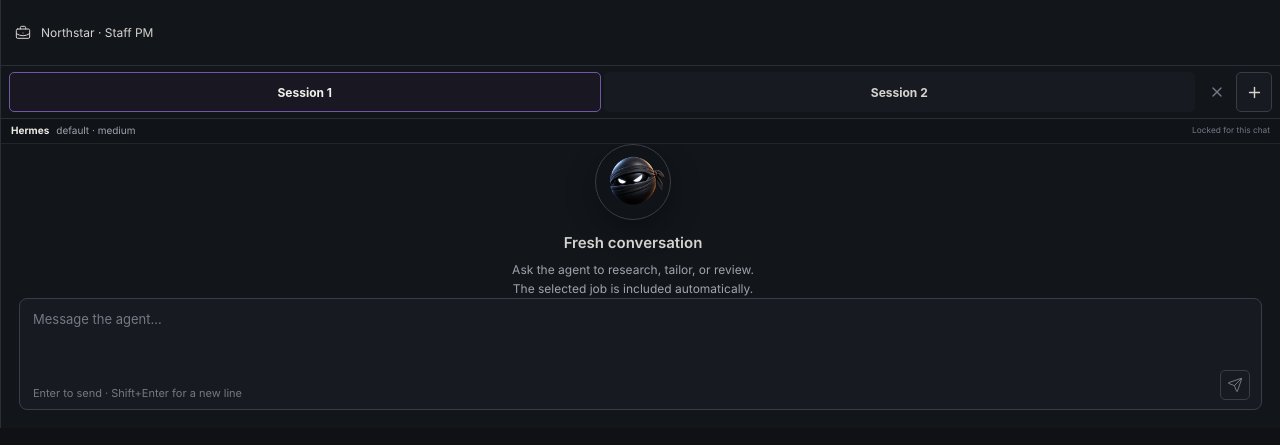
Scenario: interleaved background completion waiting and failure states identify their owner and clear on read
Click the tab with aria-label "Session 2, Idle". click: (899, 92)
box: [604, 72, 1195, 112]
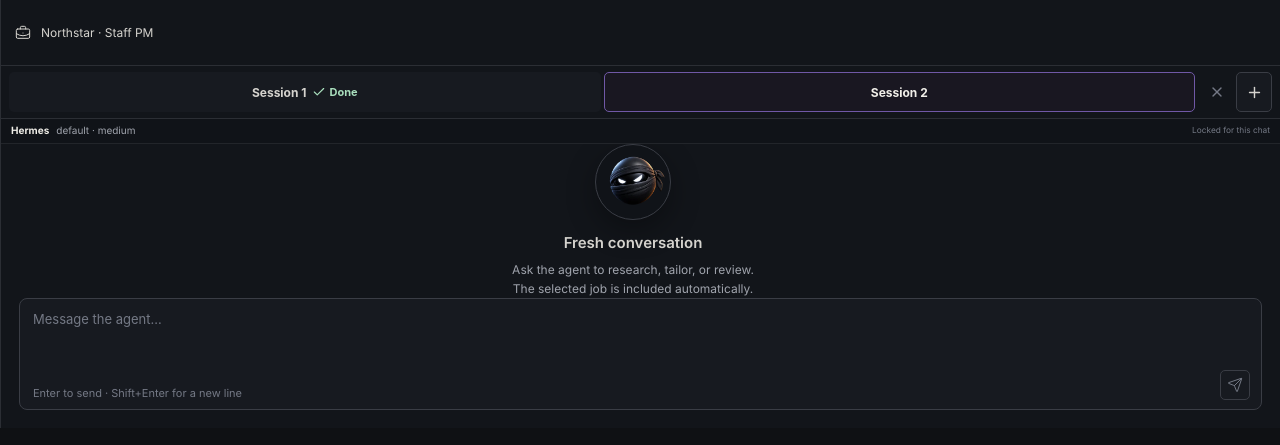
Expected: the tab with aria-label "Session 1, Done" is shown
Click the tab with aria-label "Session 1, Done". click: (305, 92)
box: [9, 72, 600, 112]
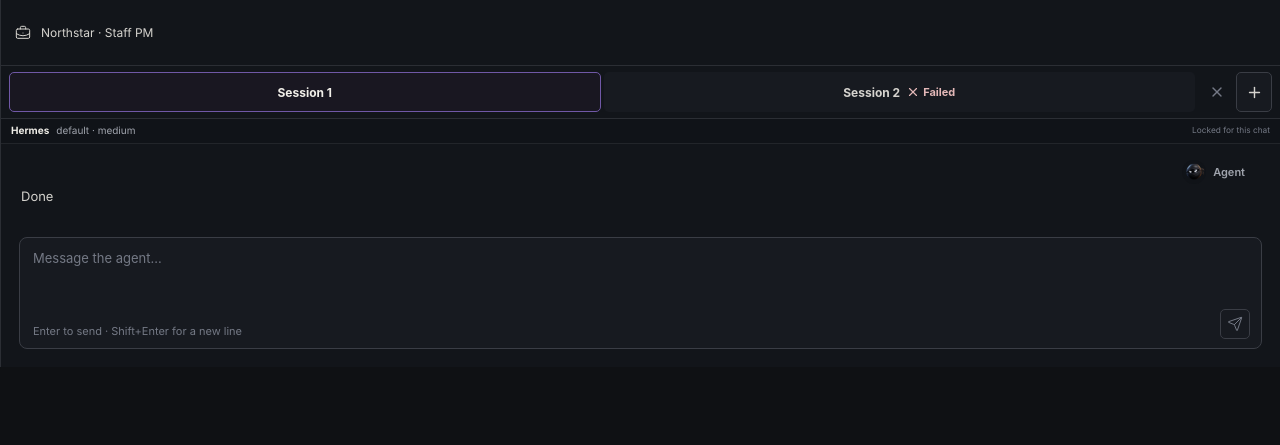
Expected: the tab with aria-label "Session 1, Idle" is shown, [9, 72, 600, 112]
Expected: the tab with aria-label "Session 2, Failed" is shown, [604, 72, 1195, 112]
